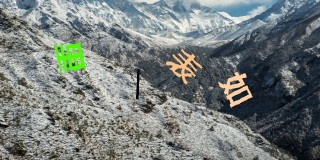一: (135, 68, 141, 100)
如: (217, 71, 253, 108)
表: (166, 48, 203, 83)
里: (54, 42, 85, 73)
